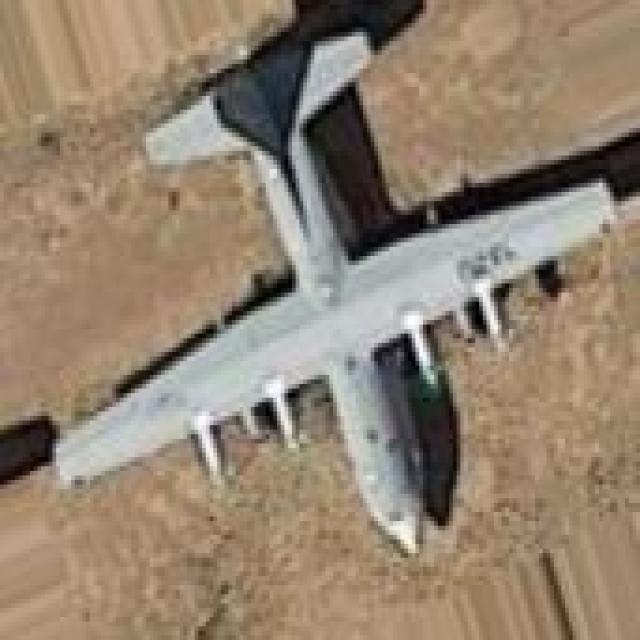C-130_TopDown: (52, 19, 621, 564)
